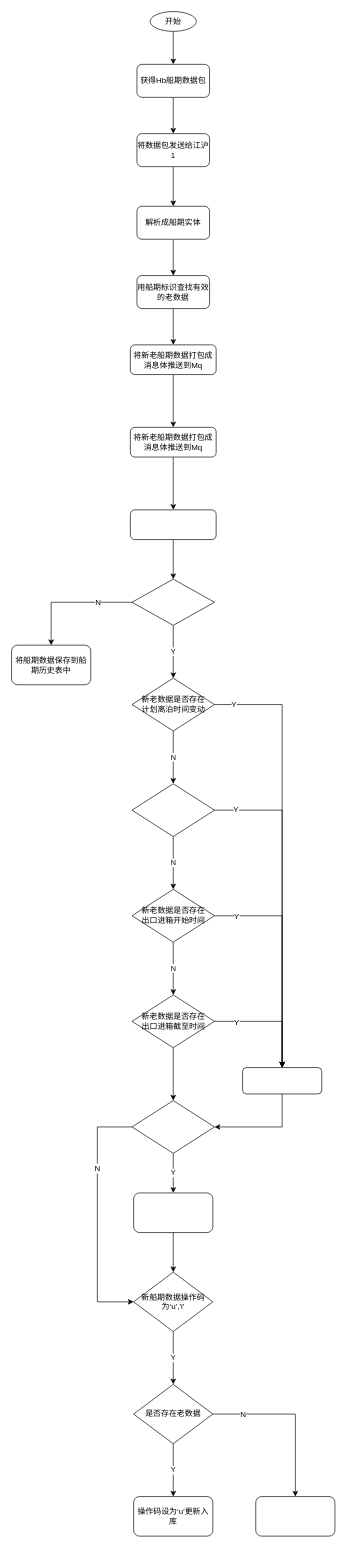
The diagram is 347 pixels wide and 1548 high, and some of its shapes have lost their labels. The shapes that lost their labels are listed below. From the top down, each one's box as (x1, y1, x2, y2) in pixels, then its label:
(130, 509, 216, 540): 通过船期标识查找历史船期表中的数据
(131, 578, 214, 625): 是否存在 船期历史的老数据
(131, 783, 214, 837): 新老数据是否存在 计划靠泊时间变动
(242, 1067, 322, 1094): 插入历史数据
(131, 1100, 214, 1153): 是否存在老船期数据
(133, 1192, 213, 1233): 更新计划靠泊、计划离泊、开截港时间的更新次数
(255, 1496, 335, 1536): 插入数据库
